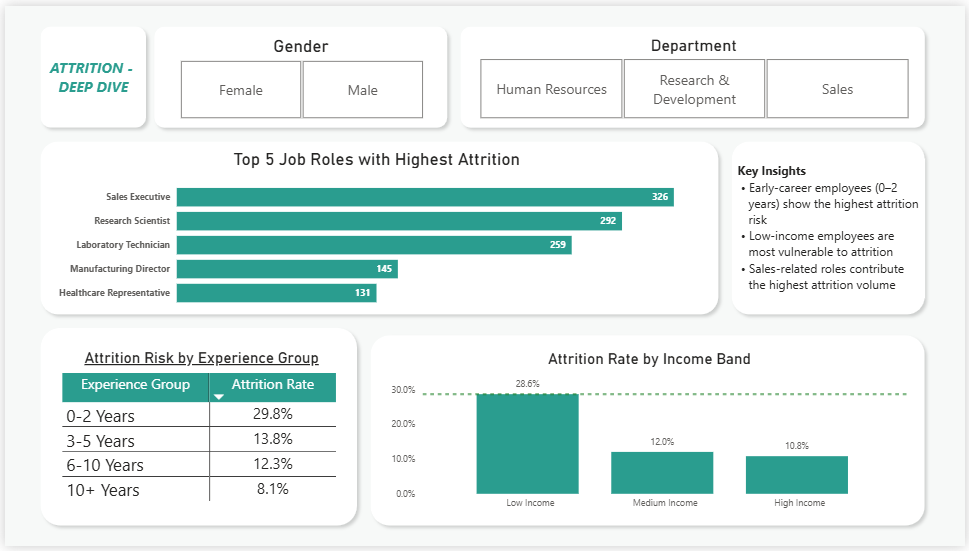

The page's visual inventory and layout, read from the dashboard file:
{"tool":"powerbi","page":{"name":"Attrition Deep Dive","canvas":[1280,720],"ordinal":1},"visuals":[{"type":"shape","box":[960,171.7,275,248.3],"z":0},{"type":"shape","box":[190,18.6,408.6,152.9],"z":1000},{"type":"shape","box":[598.6,18.6,637.1,152.9],"z":2000},{"type":"shape","box":[38.3,420,440,281.7],"z":3000},{"type":"shape","box":[478.3,430,756.7,271.7],"z":4000},{"type":"shape","box":[38.3,171.7,921.7,248.3],"z":5000},{"type":"clusteredBarChart","title":"Top 5 Job Roles with Highest Attrition","fields":{"Category":["HR-Employee-Attrition.JobRole"],"Y":["CountNonNull(HR-Employee-Attrition.Attrition)"]},"box":[70,185,863.3,223.3],"z":6000},{"type":"clusteredColumnChart","title":"Attrition Rate by Income Band","fields":{"Category":["HR-Employee-Attrition.Income Band"],"Y":["Measures (2).Attrition Rate %"]},"box":[495,453.3,713.3,226.7],"z":7000},{"type":"pivotTable","title":"Attrition Risk by Experience Group","fields":{"Rows":["HR-Employee-Attrition.Experience Group"],"Values":["Measures (2).Attrition Rate %"]},"box":[71,453,381,217],"z":8000},{"type":"slicer","title":"Department","fields":{"Values":["HR-Employee-Attrition.Department"]},"box":[612.9,34.3,610,121.4],"z":9000},{"type":"slicer","title":"Gender","fields":{"Values":["HR-Employee-Attrition.Gender"]},"box":[208.6,34.3,372.9,121.4],"z":10000},{"type":"shape","box":[38.7,18.7,158.7,152.7],"z":11000},{"type":"textbox","box":[53.3,64.4,128.9,62.2],"z":12000},{"type":"textbox","box":[971.7,203.3,255,186.7],"z":13000}]}

Visuals, with their boxes in screenshot pixels (x1, y1, x2, y2), scaled from the page's 1280x720 canvas onto the 969x551 screenshot:
shape: bbox=(727, 131, 935, 321)
shape: bbox=(144, 14, 453, 131)
shape: bbox=(453, 14, 935, 131)
shape: bbox=(29, 321, 362, 537)
shape: bbox=(362, 329, 935, 537)
shape: bbox=(29, 131, 727, 321)
"Top 5 Job Roles with Highest Attrition" clusteredBarChart: bbox=(53, 142, 707, 312)
"Attrition Rate by Income Band" clusteredColumnChart: bbox=(375, 347, 915, 520)
"Attrition Risk by Experience Group" pivotTable: bbox=(54, 347, 342, 513)
"Department" slicer: bbox=(464, 26, 926, 119)
"Gender" slicer: bbox=(158, 26, 440, 119)
shape: bbox=(29, 14, 149, 131)
textbox: bbox=(40, 49, 138, 97)
textbox: bbox=(736, 156, 929, 298)
